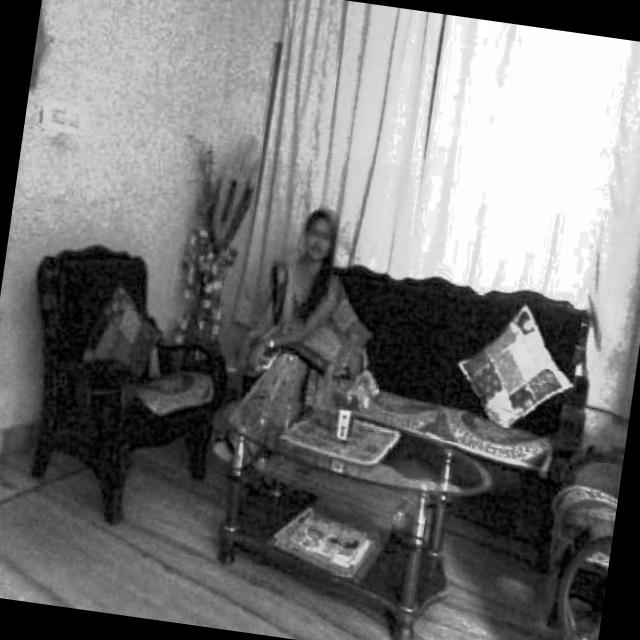Person: (210, 189, 368, 486)
